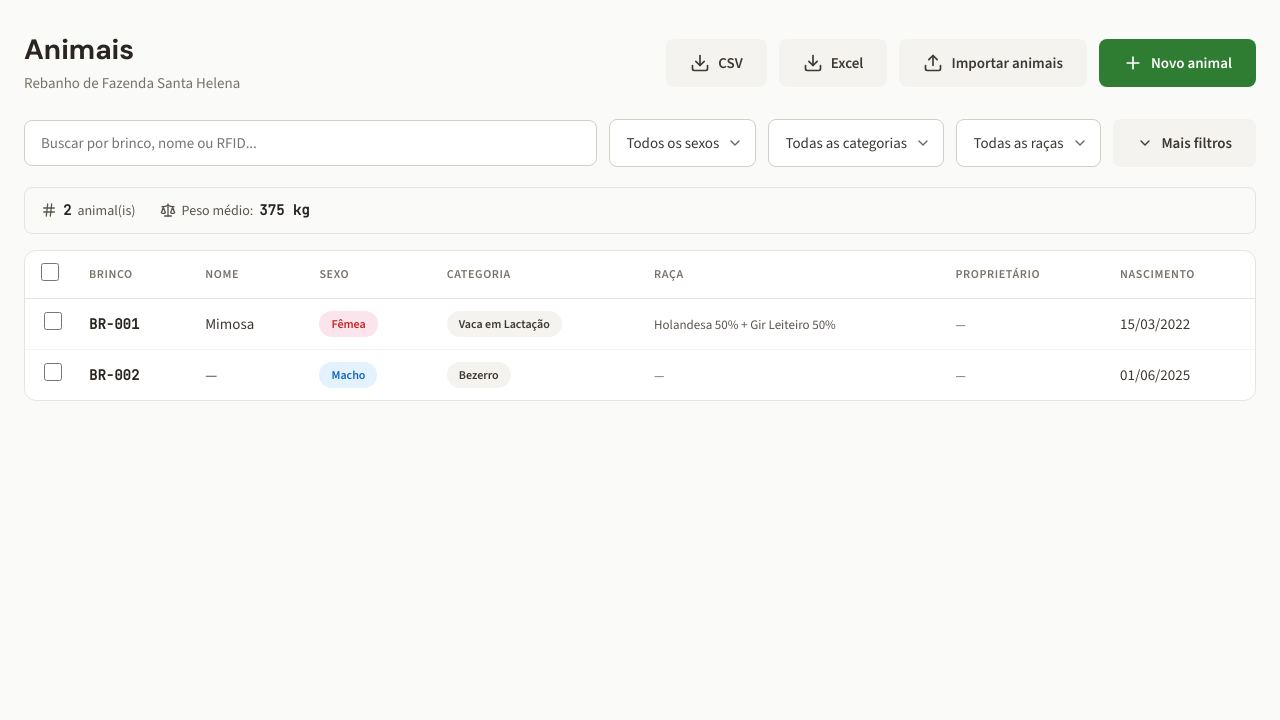
Test: AnimalsPage › should render weight filter inputs in advanced panel
This screenshot has width=1280, height=720.
What coordinates should you click on to do the following:
click the button "Mais filtros"
I would click on:
 (1185, 143)
Its box is [1113,119,1256,167].
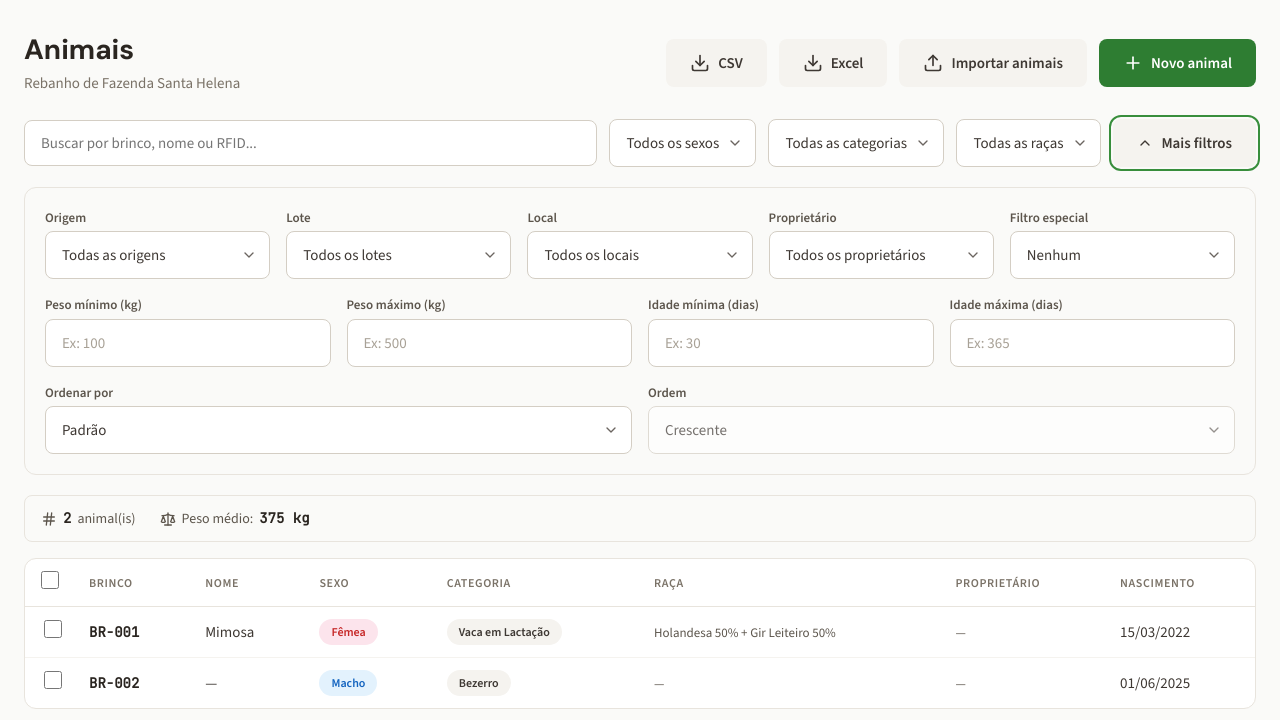
Now the number field labelled "Peso mínimo (kg)" is shown, box [45,319,330,367]
Now the number field labelled "Peso máximo (kg)" is shown, box [346,319,632,367]
